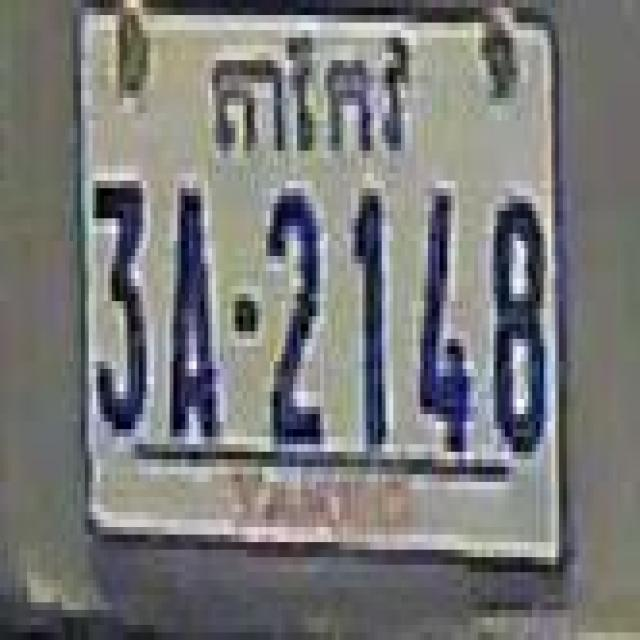Takeo: (205, 23, 409, 164)
